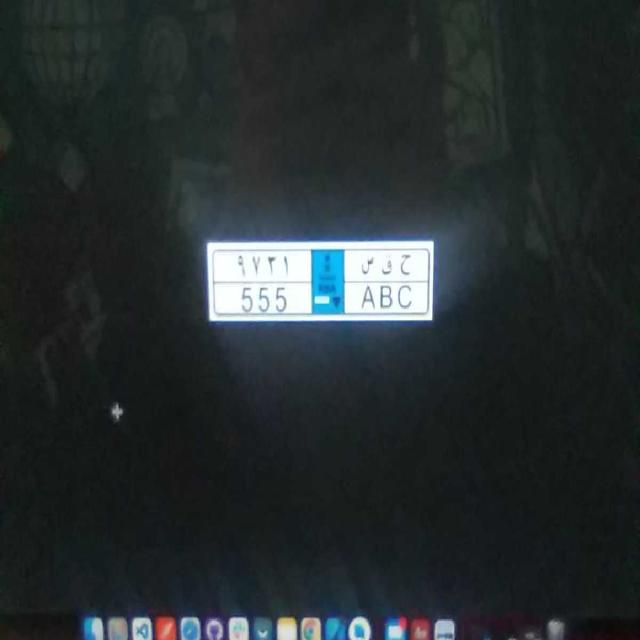license_plate: (230, 282, 420, 316)
